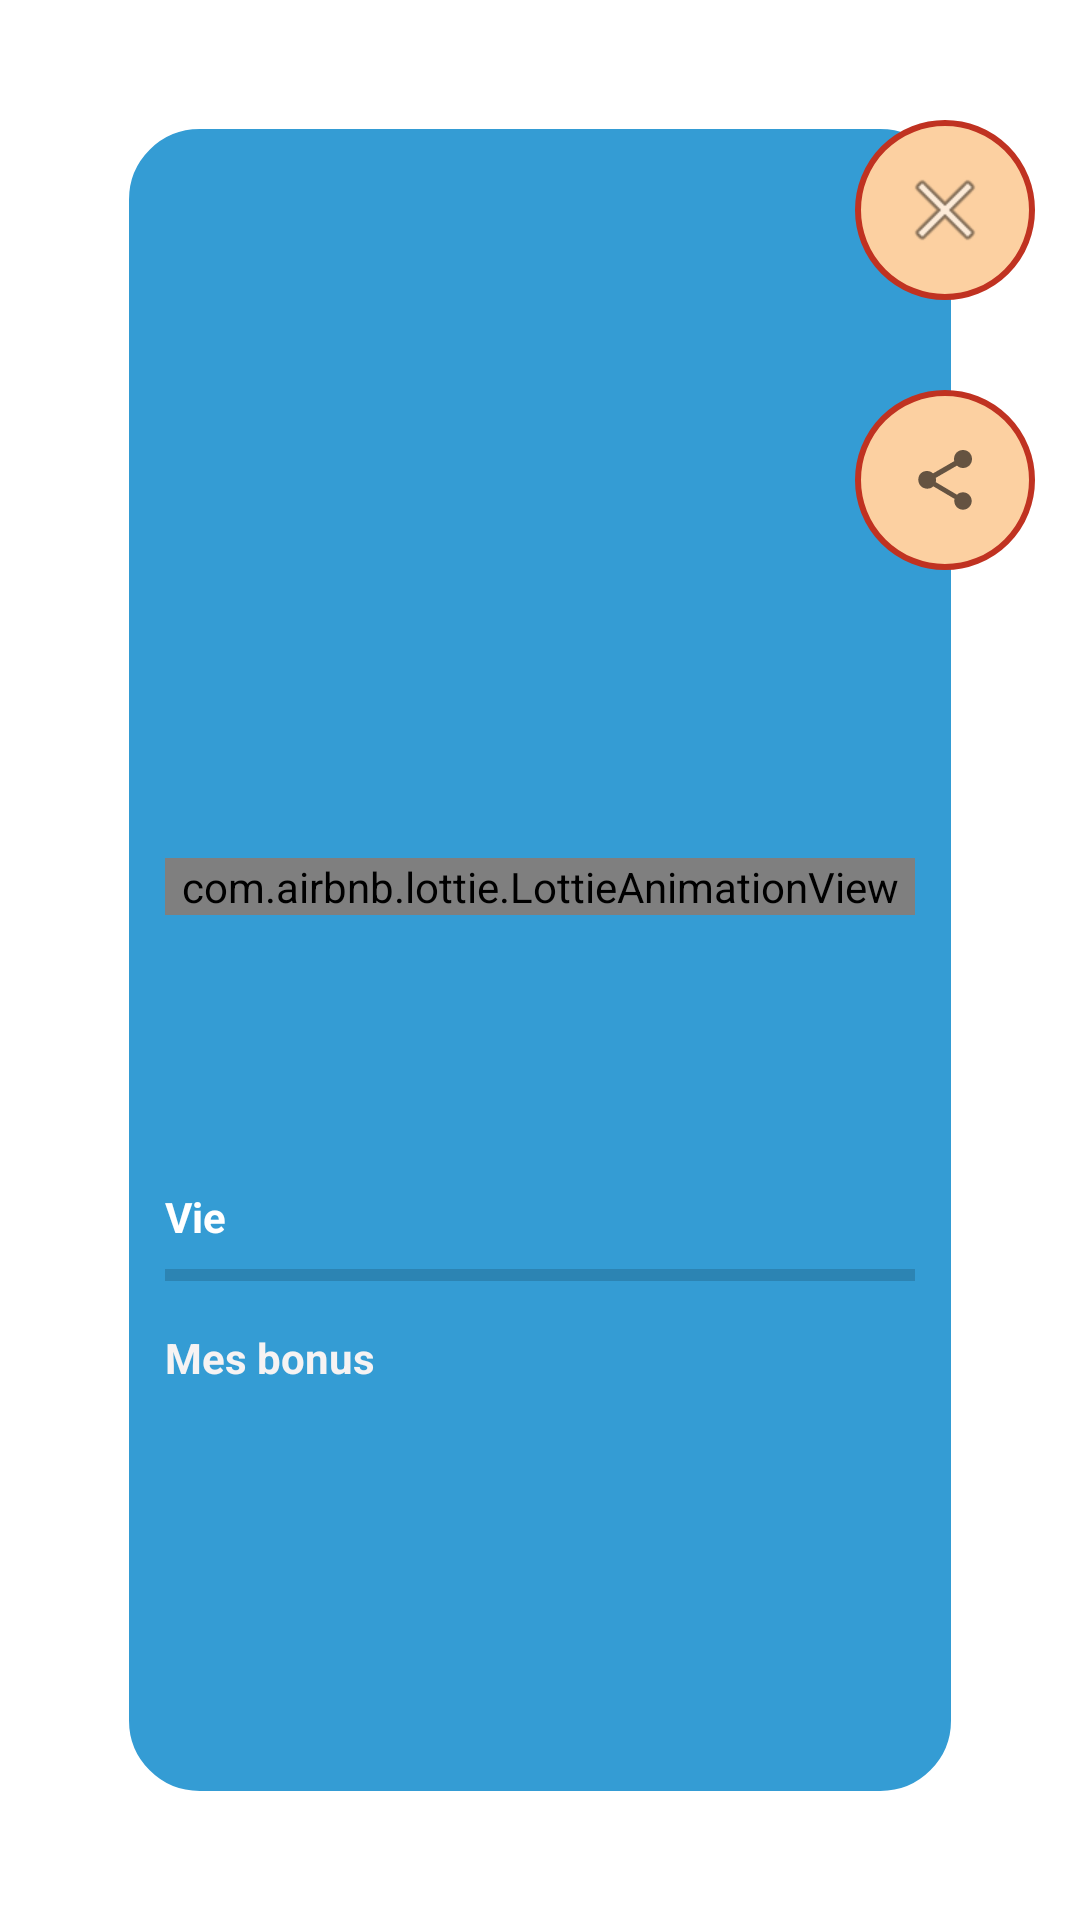

Screen size 1080 x 1920. Icon name, then its box in pixels as {"x1": x1, "y1": y1, "x2": x2, "y2": y2}:
close clear cancel: {"x1": 855, "y1": 120, "x2": 1035, "y2": 300}
